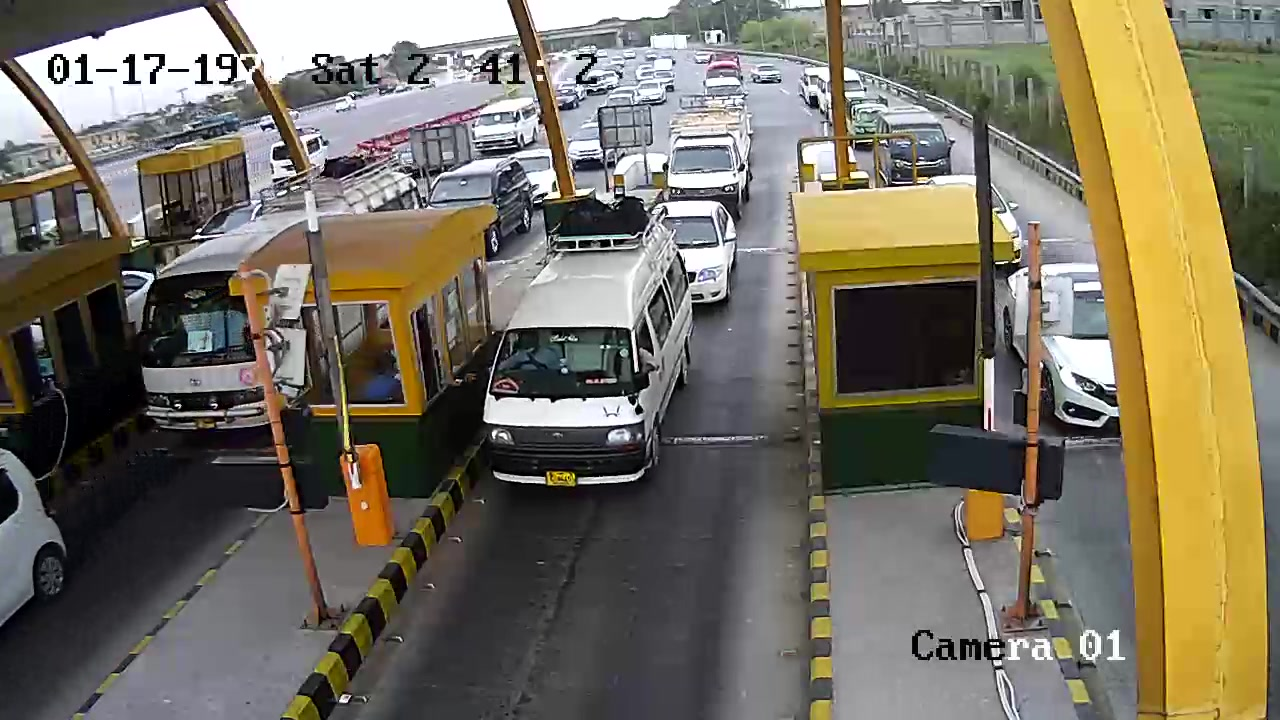F2: (483, 190, 692, 500)
